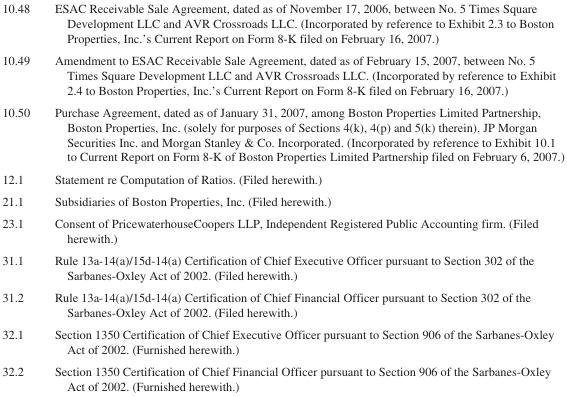table: (1, 1, 563, 392)
table column: (41, 1, 563, 392), (1, 1, 41, 392)
table row: (1, 100, 563, 167), (1, 48, 563, 100), (1, 1, 563, 48), (1, 211, 563, 248), (1, 248, 563, 285), (1, 285, 563, 322), (1, 322, 563, 359), (1, 359, 563, 392), (1, 167, 563, 189), (1, 189, 563, 211)
